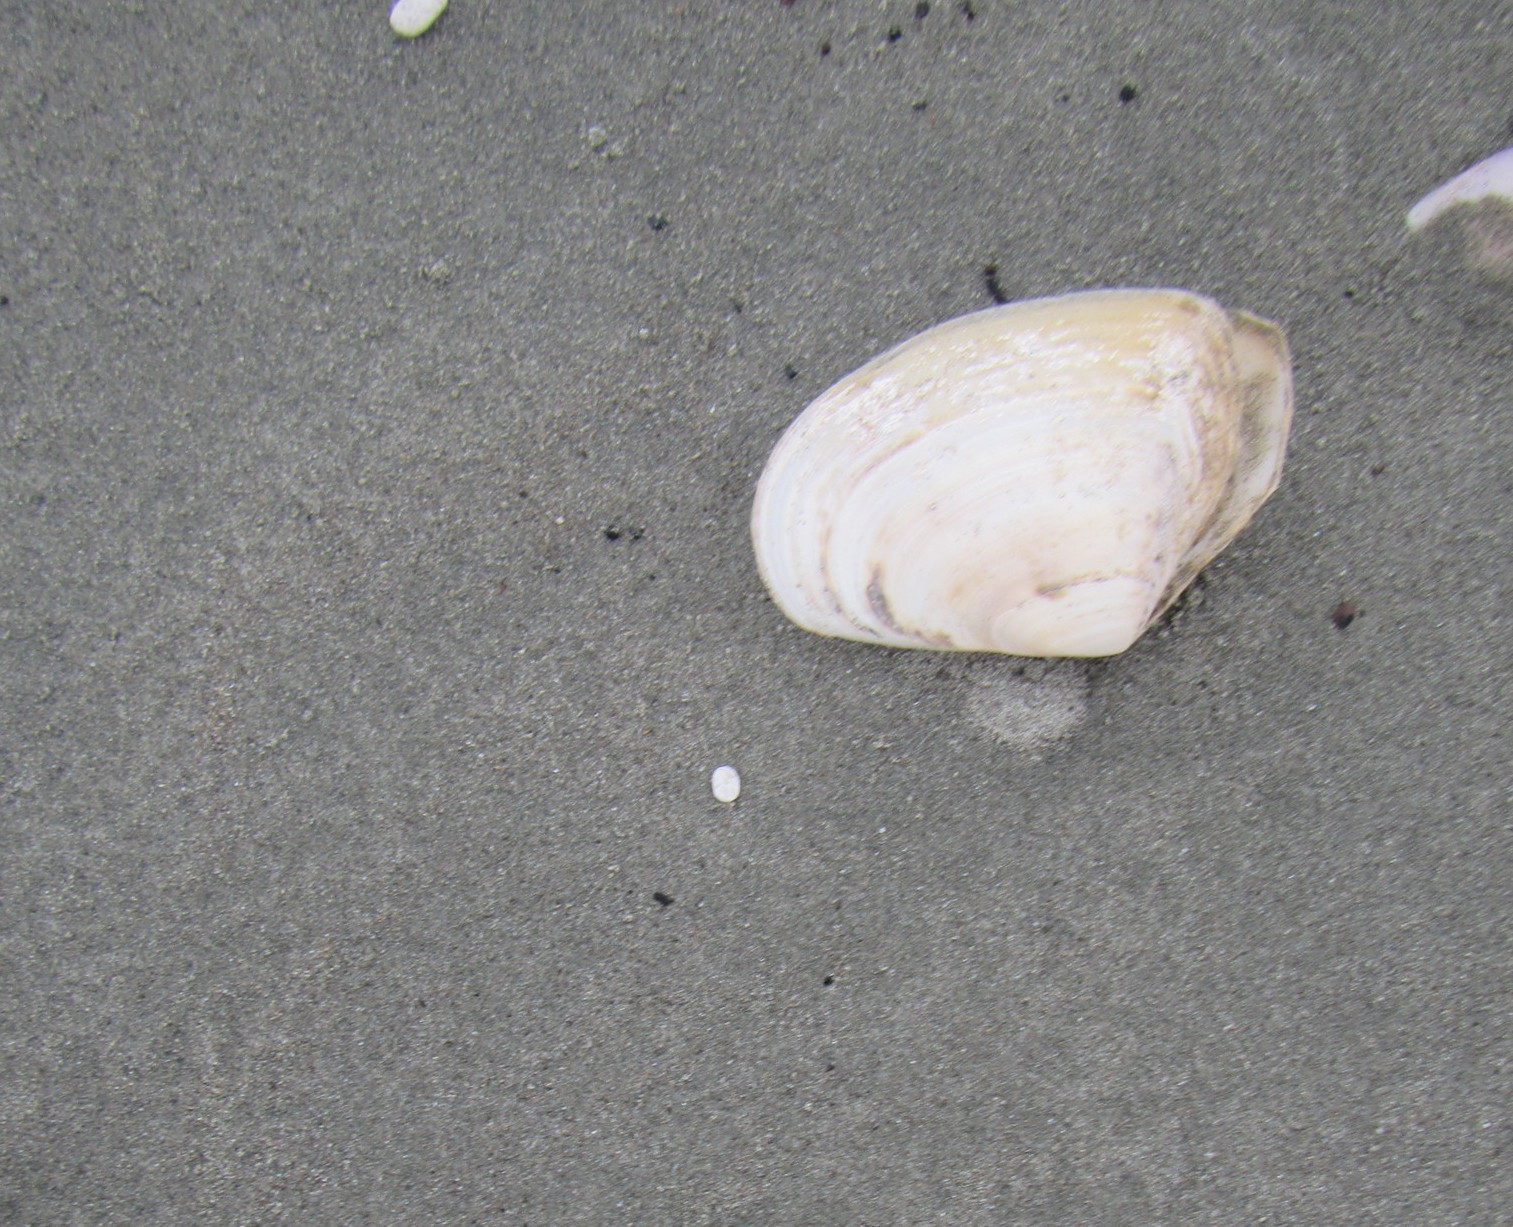tuatua: (745, 285, 1298, 669)
